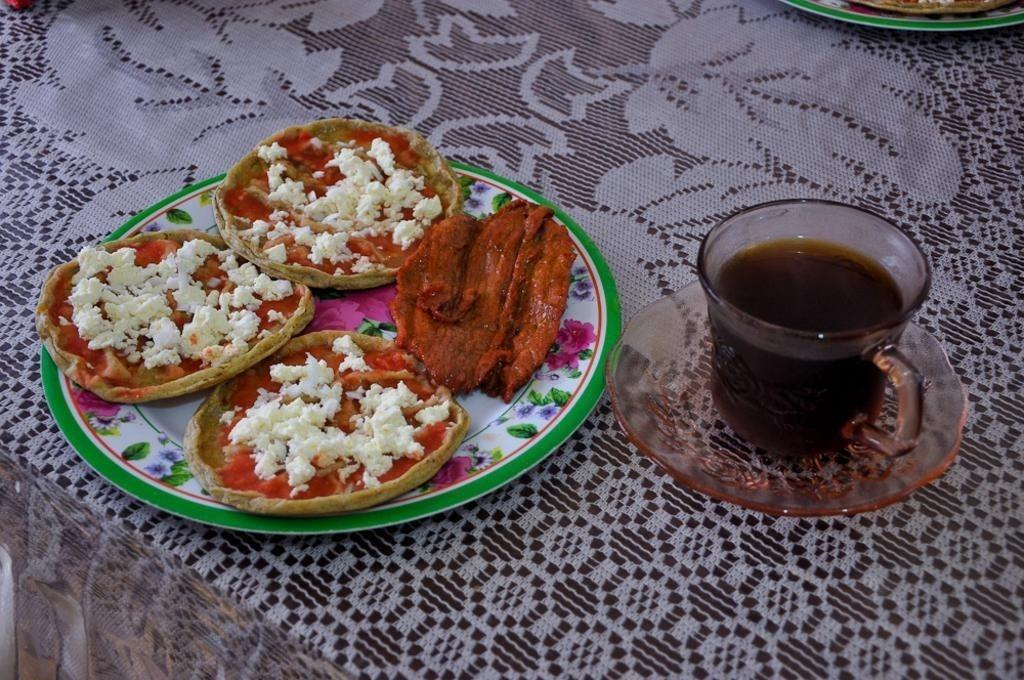cup-handle: (693, 194, 939, 469)
